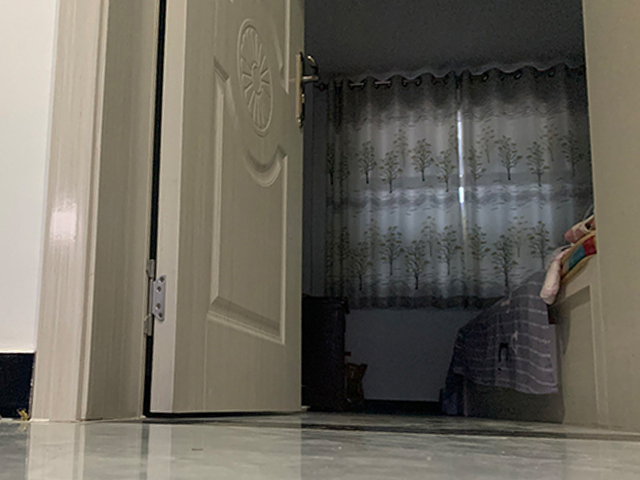bed: (439, 268, 564, 426)
curtain: (323, 78, 552, 306)
table: (302, 294, 348, 412)
